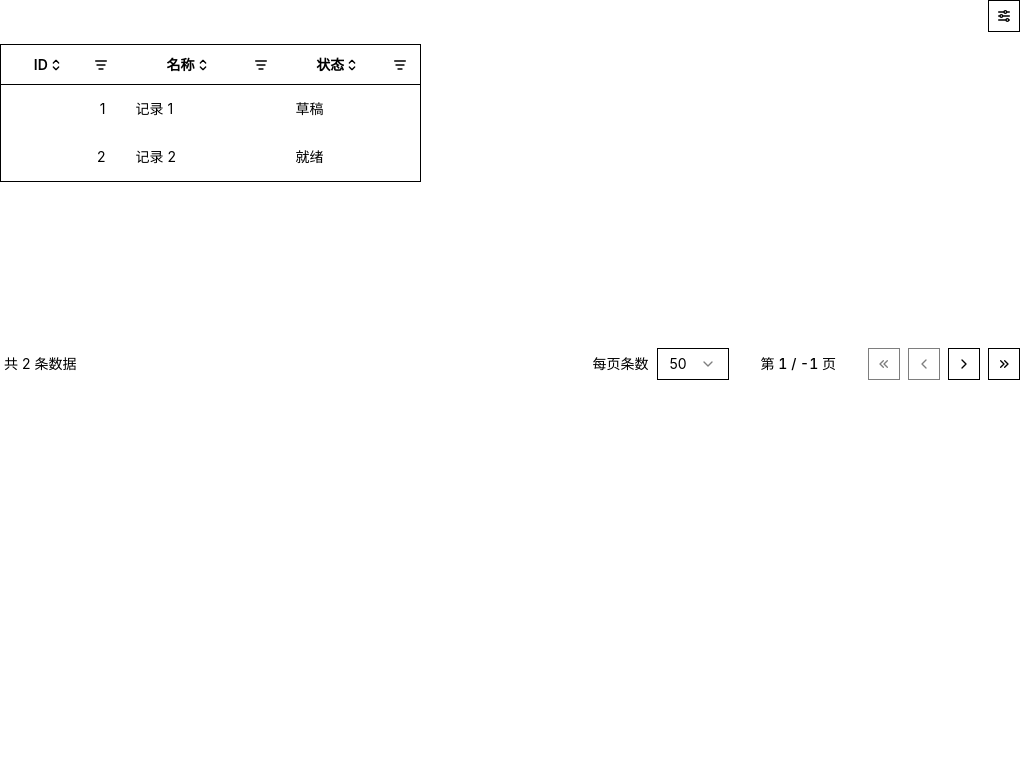
Test: DataTable cell selection › keeps selected, edit-ready, and editing states exclusive across cells
Click the cell "草稿" at (310, 108), box [280,85,420,133]
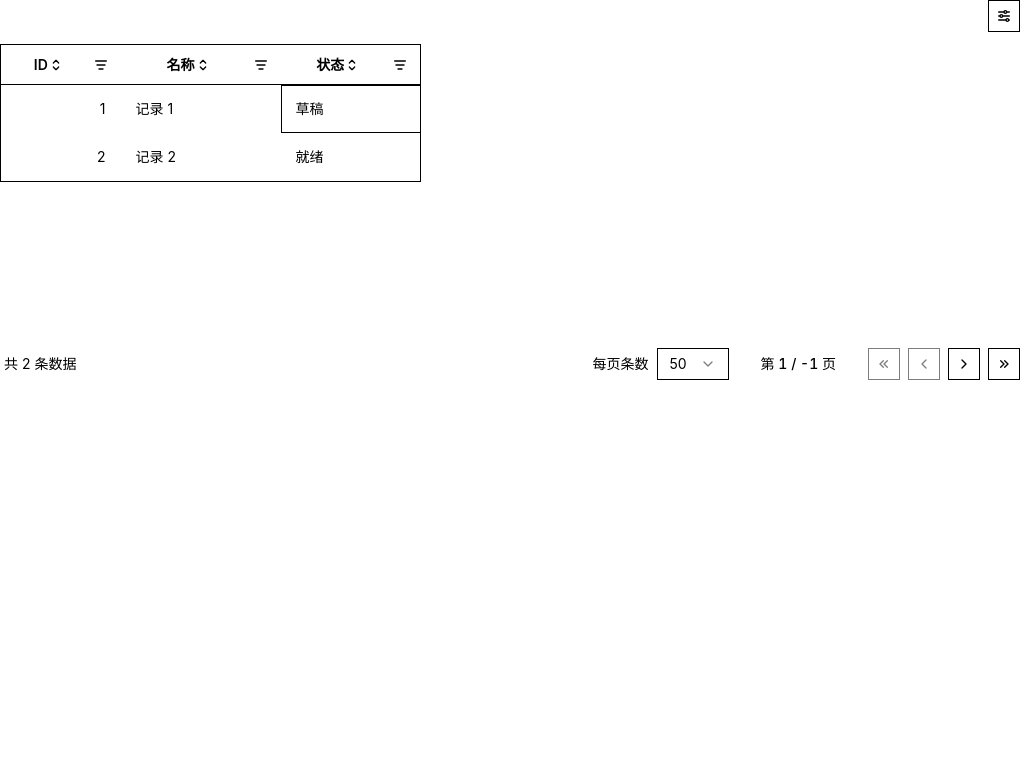
Press Enter in the cell "草稿", box [280,85,420,133]
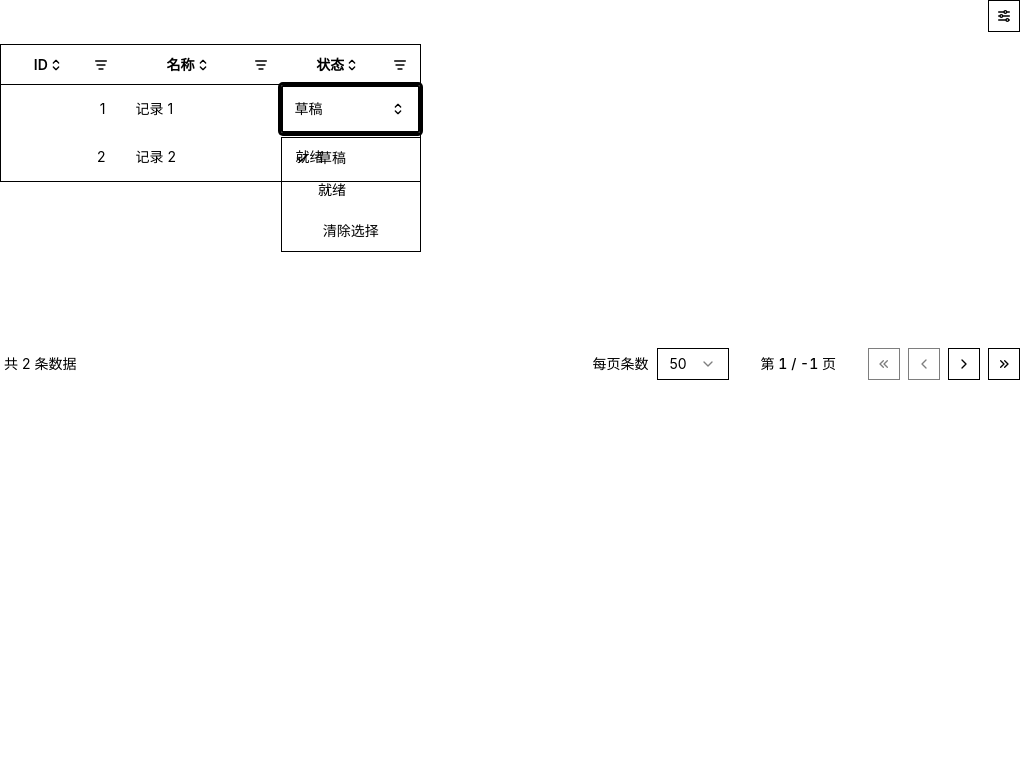
Now the option "就绪" is shown, box [318,181,346,198]
Press Escape
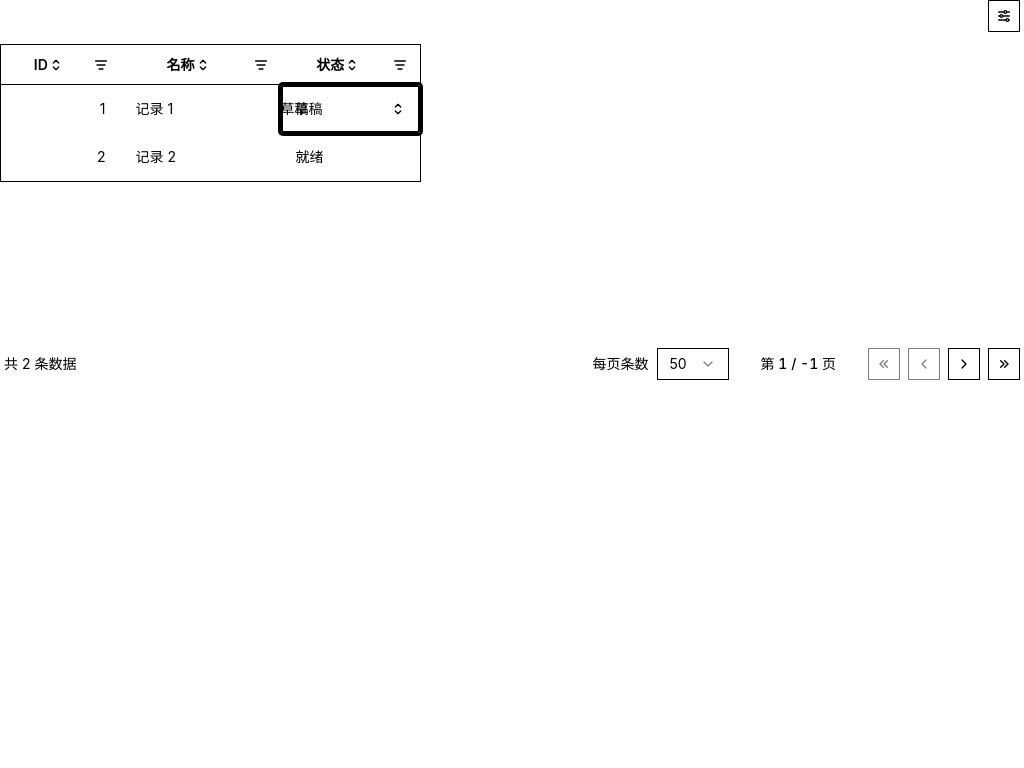
Now the button "草稿" is collapsed, box [280,85,420,133]
Click the cell "就绪" at (310, 156), box [280,133,420,181]
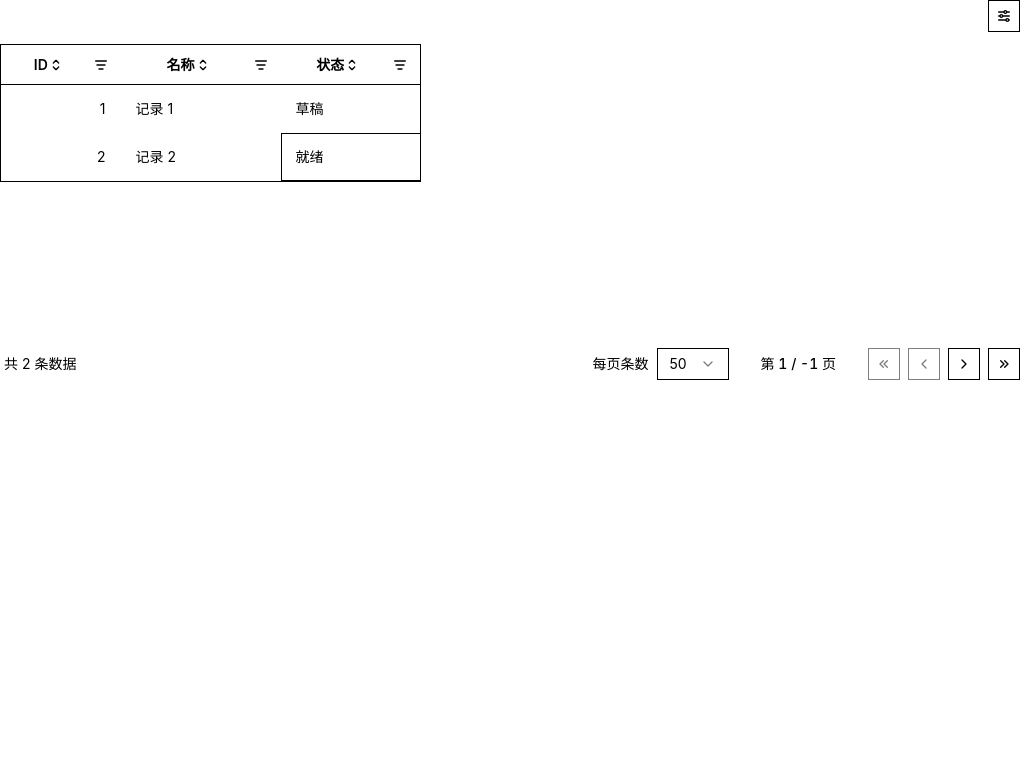
Now the cell "草稿" does not have attribute data-cell-interaction-state, box [280,85,420,133]
Now the cell "草稿" does not have attribute data-cell-edit-ready, box [280,85,420,133]
Double-click the cell "就绪" at (310, 156), box [280,133,420,181]
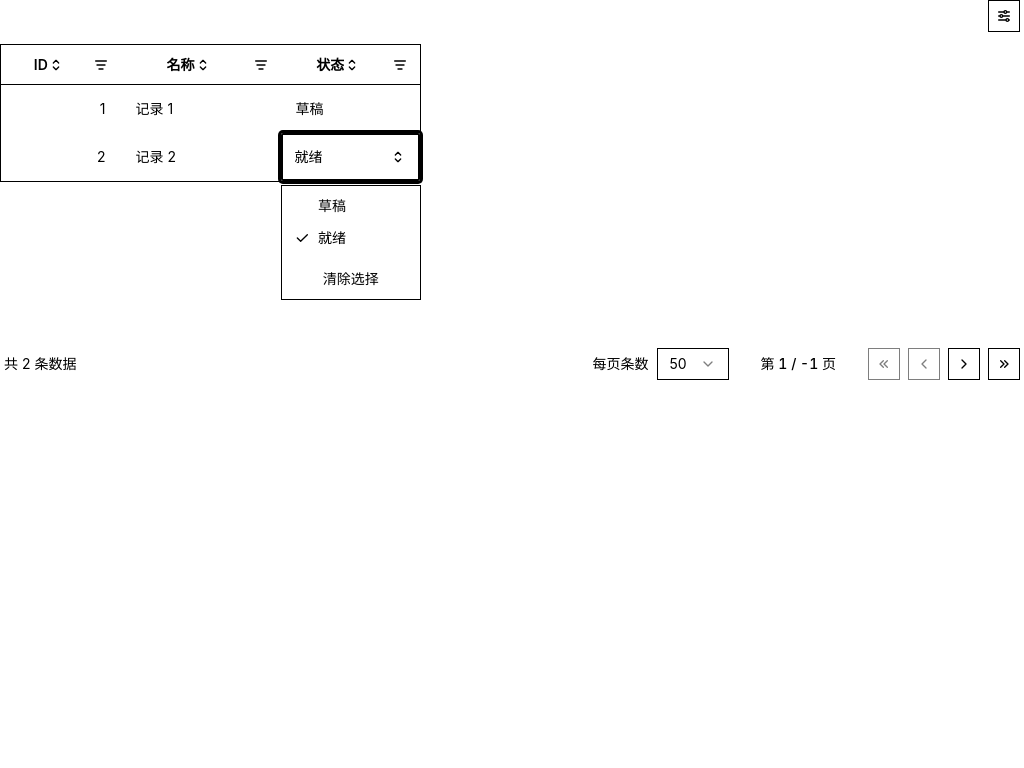
Now the option "草稿" is shown, box [318,197,346,214]
